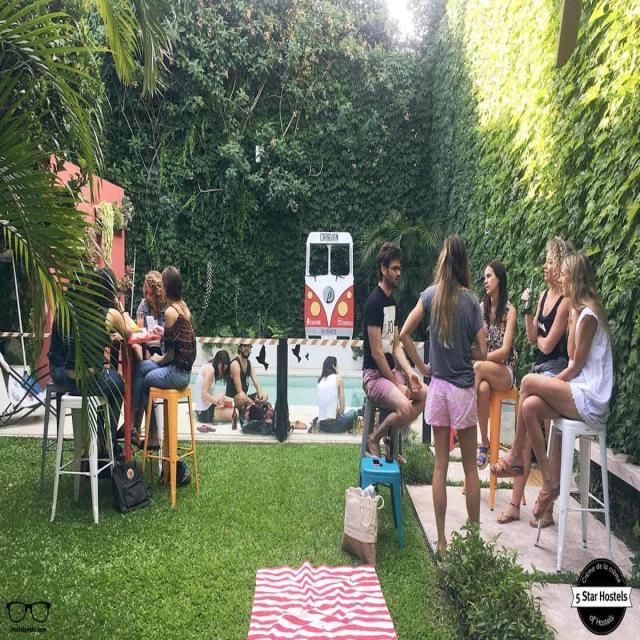body: (490, 250, 614, 520), (398, 233, 488, 562), (495, 235, 574, 528), (361, 240, 432, 467), (115, 264, 198, 452), (62, 265, 134, 462), (470, 258, 518, 471), (121, 269, 168, 436), (46, 260, 96, 386), (193, 349, 240, 424), (226, 334, 269, 413), (317, 355, 358, 435)
